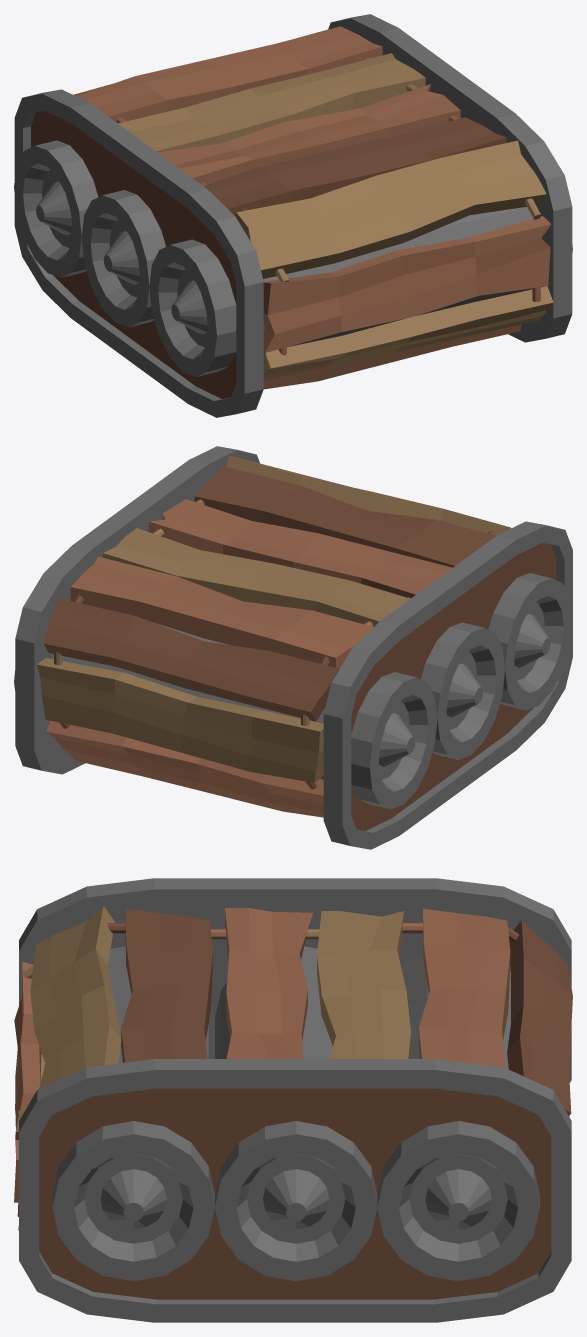
File: Conveyor_Seperated.fbx
3 views of the same model, one above another, from view 1: azimuth 30°, elevation 25°; view 2: azimuth 150°, elevation 25°; view 3: azimuth 270°, elevation 25° (orthographic). The views are drawn at different scales.
Visible parts, largest first — view 1: Cube, Cube.005, Cube.004, Cylinder.001, Cube.002, Cube.003, Cube.006, Cube.001, Cube.013, Cylinder.004, Cylinder.003, Cube.012; view 2: Cube, Cube.010, Cube.014, Cube.003, Cube.006, Cube.001, Cube.002, Cylinder.004, Cube.011, Cylinder.001, Cylinder.003, Cube.005; view 3: Cube, Cylinder.003, Cylinder.004, Cylinder.001, Cube.003, Cube.006, Cube.002, Cube.001, Cube.005, Cube.014, Cube.004.
Part boxes in pixels (x1,y1,x2,y2): Cube: [14, 14, 572, 417]; Cube.005: [235, 140, 546, 281]; Cube.004: [263, 216, 551, 355]; Cylinder.001: [149, 207, 572, 376]; Cube.002: [118, 53, 425, 152]; Cube.003: [76, 26, 382, 123]; Cube.006: [203, 117, 506, 215]; Cube.001: [158, 84, 460, 185]; Cube.013: [263, 286, 553, 380]; Cylinder.004: [14, 108, 360, 277]; Cylinder.003: [81, 190, 165, 327]; Cube.012: [263, 324, 520, 389]; Cube: [15, 446, 572, 849]; Cube.010: [36, 652, 323, 782]; Cube.014: [43, 595, 339, 721]; Cube.003: [70, 556, 373, 668]; Cube.006: [194, 466, 495, 567]; Cube.001: [148, 499, 452, 598]; Cube.002: [103, 528, 410, 626]; Cylinder.004: [14, 622, 437, 809]; Cube.011: [46, 721, 323, 817]; Cylinder.001: [488, 573, 572, 710]; Cylinder.003: [421, 622, 504, 759]; Cube.005: [226, 455, 511, 535]; Cube: [19, 878, 571, 1322]; Cylinder.003: [215, 946, 377, 1281]; Cylinder.004: [377, 953, 539, 1281]; Cylinder.001: [52, 946, 214, 1281]; Cube.003: [402, 908, 510, 1067]; Cube.006: [107, 908, 212, 1062]; Cube.002: [305, 911, 411, 1058]; Cube.001: [210, 908, 312, 1058]; Cube.005: [18, 906, 121, 1116]; Cube.014: [507, 920, 572, 1115]; Cube.004: [14, 962, 41, 1216].
Size of the model in its own units: 132 by 71.68 by 144.
